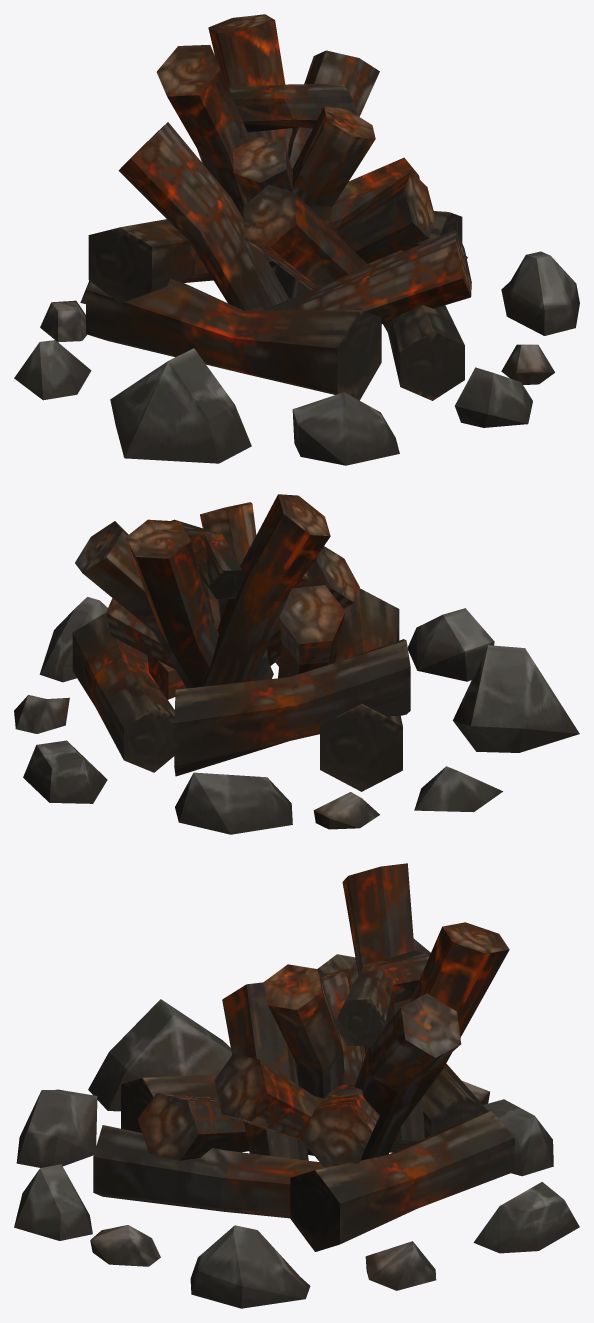
Rendered from campfire_04.fbx.
3 views of the same model, one above another, from view 1: azimuth 30°, elevation 25°; view 2: azimuth 150°, elevation 25°; view 3: azimuth 270°, elevation 25° (orthographic). The views are drawn at different scales.
Visible parts, largest first — view 1: obj0.276; view 2: obj0.276; view 3: obj0.276.
Boxes of the visible parts, <box> form: obj0.276: <box>14,14,579,465</box>; obj0.276: <box>14,494,579,834</box>; obj0.276: <box>14,863,579,1308</box>.
Size of the model in its own units: 3.19 by 1.72 by 3.02.
